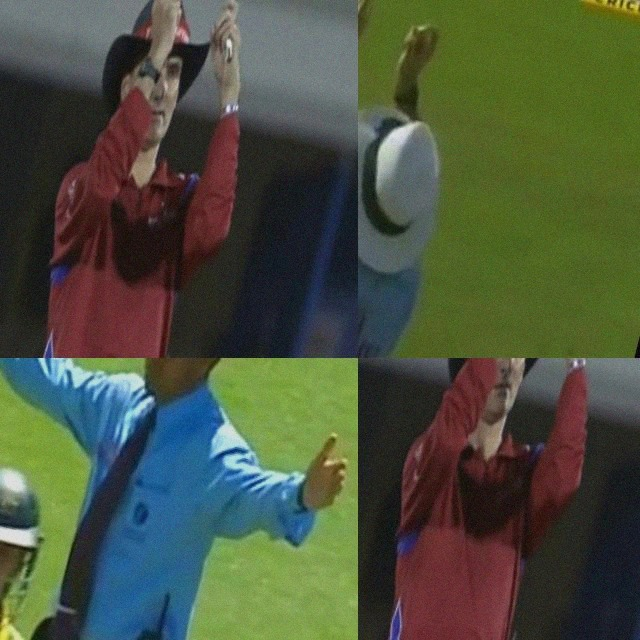Six: (0, 0, 306, 358), (358, 358, 639, 640), (358, 0, 524, 358)
Wide: (0, 358, 358, 602)
